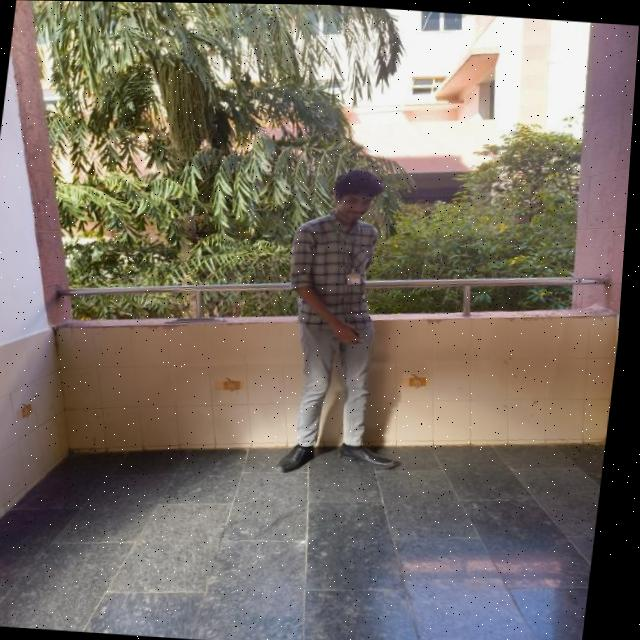id_card: (339, 221, 375, 288)
